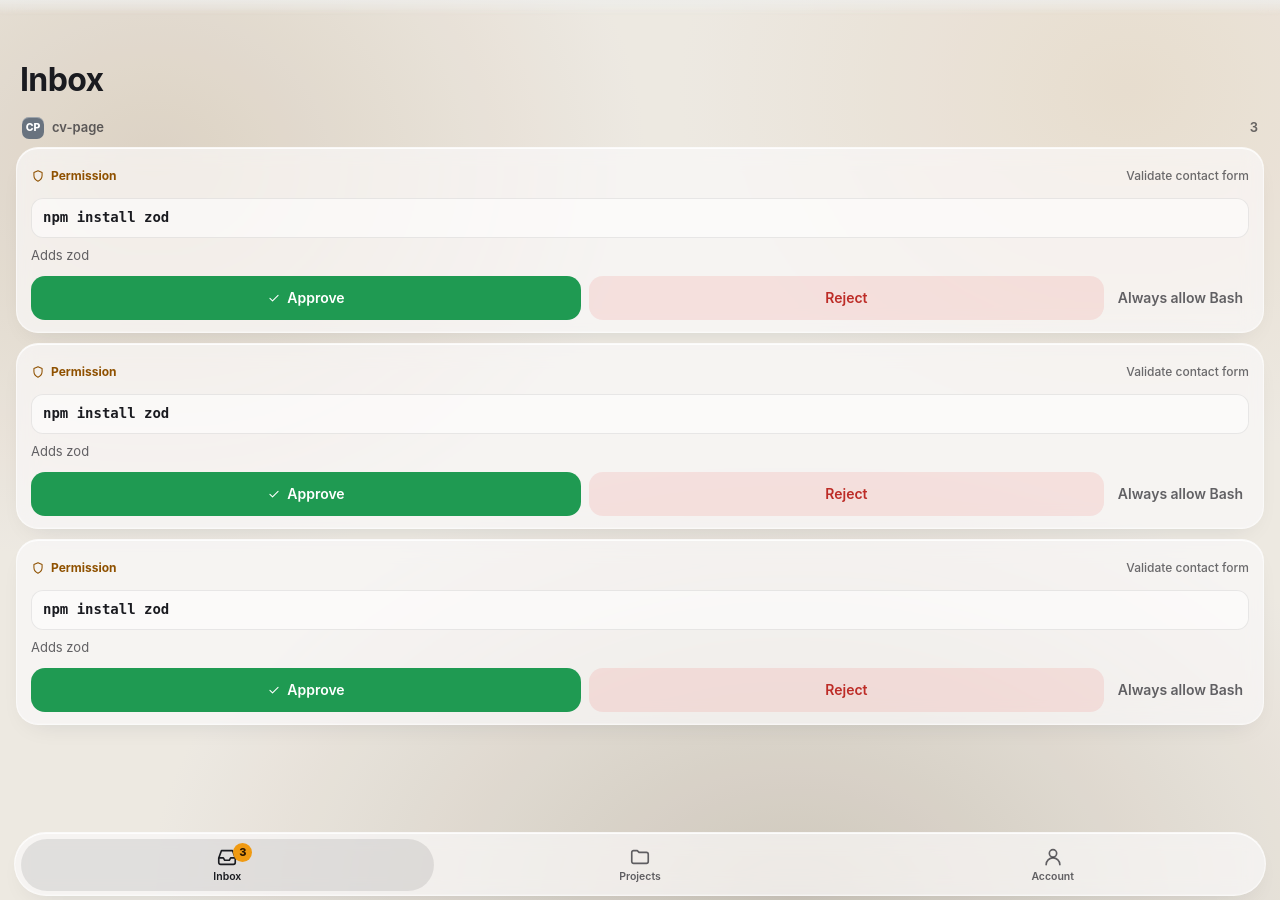
Test: Inbox › approves, rejects and always allows permissions with buttons
Expected: the navigation bar named "Sections" is shown, [14, 832, 1266, 896]
What coordinates should you click on to do the following:
click the 1st button "Approve"
I would click on:
 (306, 298)
Its box is [31, 276, 581, 320].
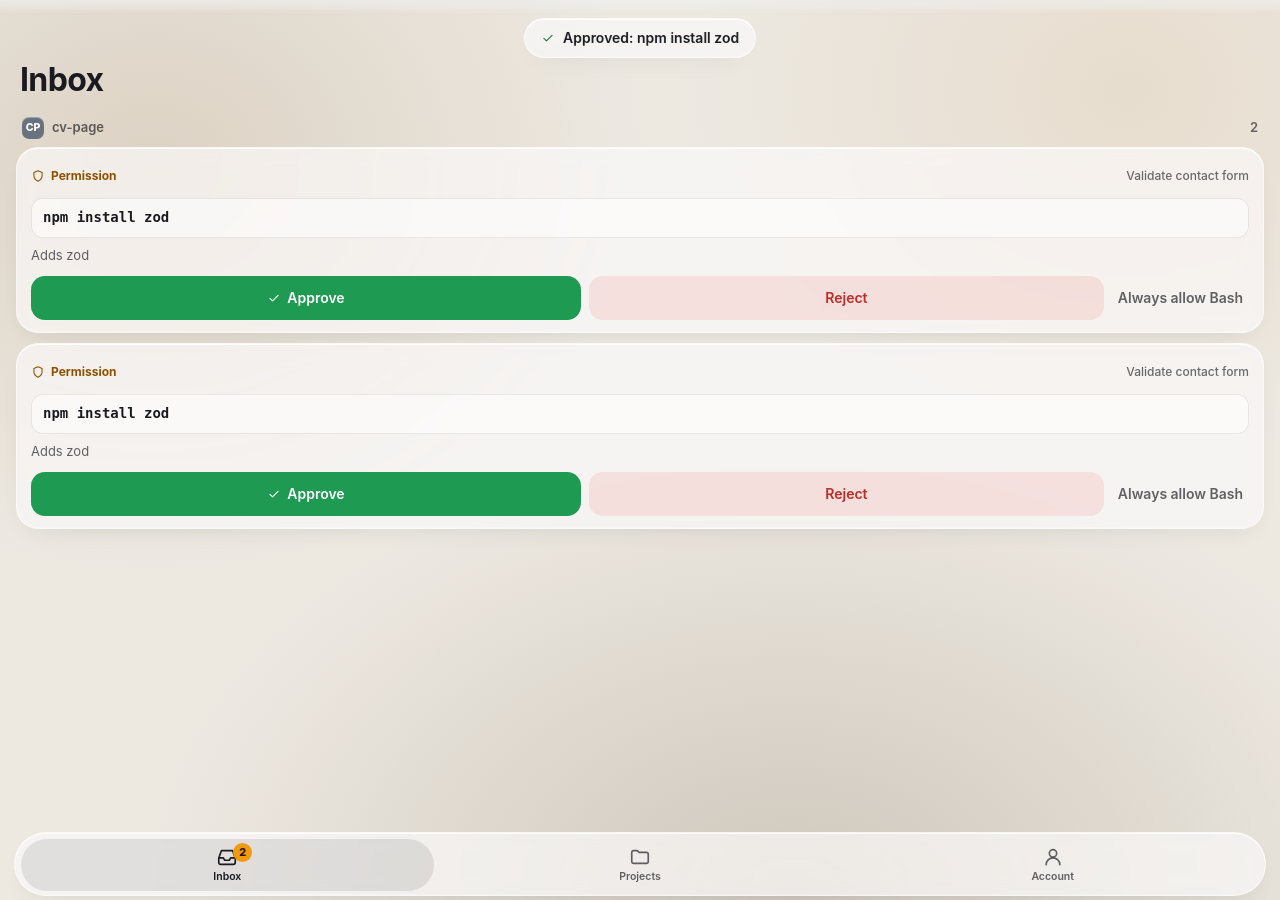
Expected: the text "Approved: npm install zod" is shown, [563, 29, 739, 47]
What coordinates should you click on to do the following:
click the 1st button "Reject"
I would click on:
 (846, 298)
Its box is [589, 276, 1104, 320].
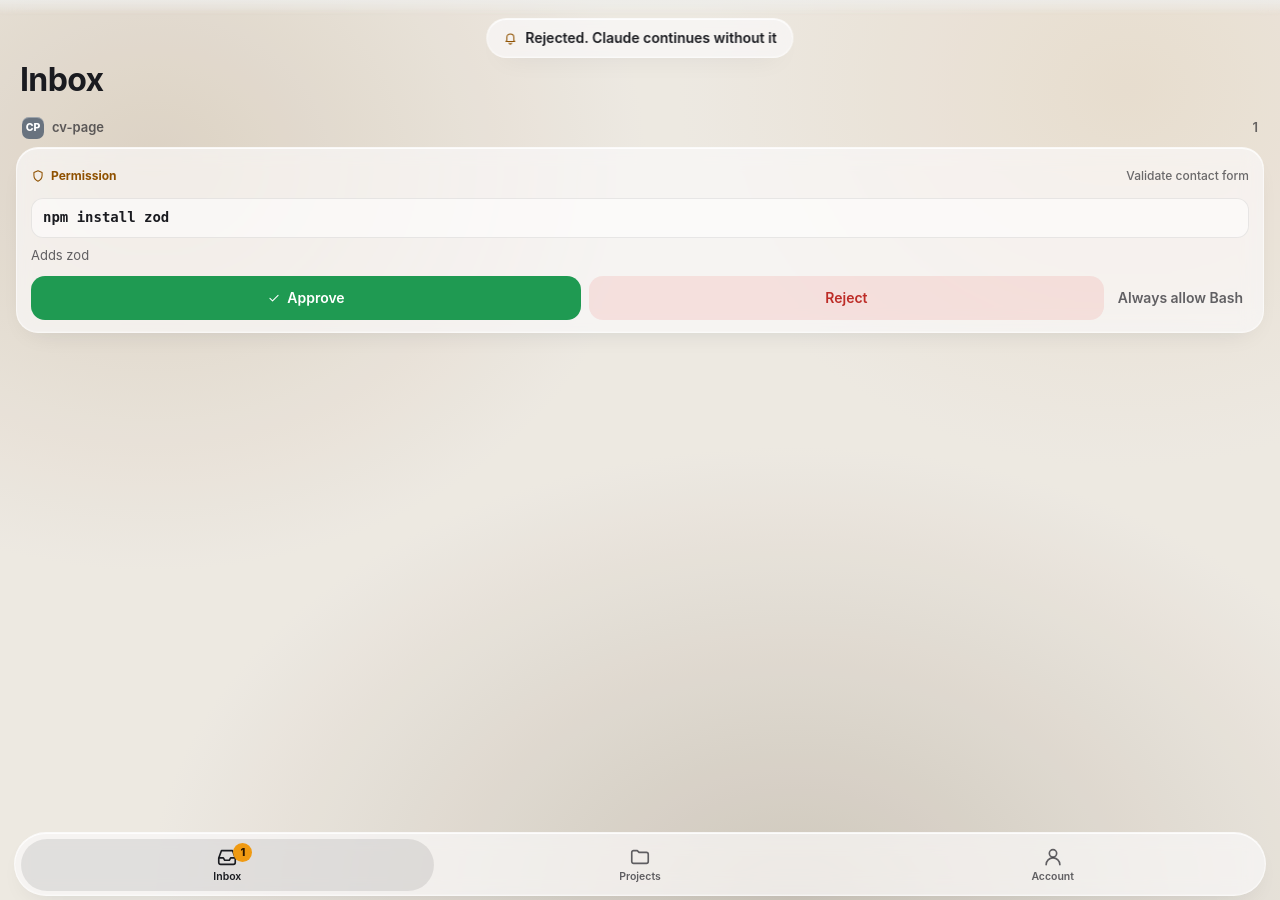
What coordinates should you click on to do the following:
click the button "Always allow Bash"
I would click on:
 (1180, 298)
Its box is [1112, 276, 1249, 320].
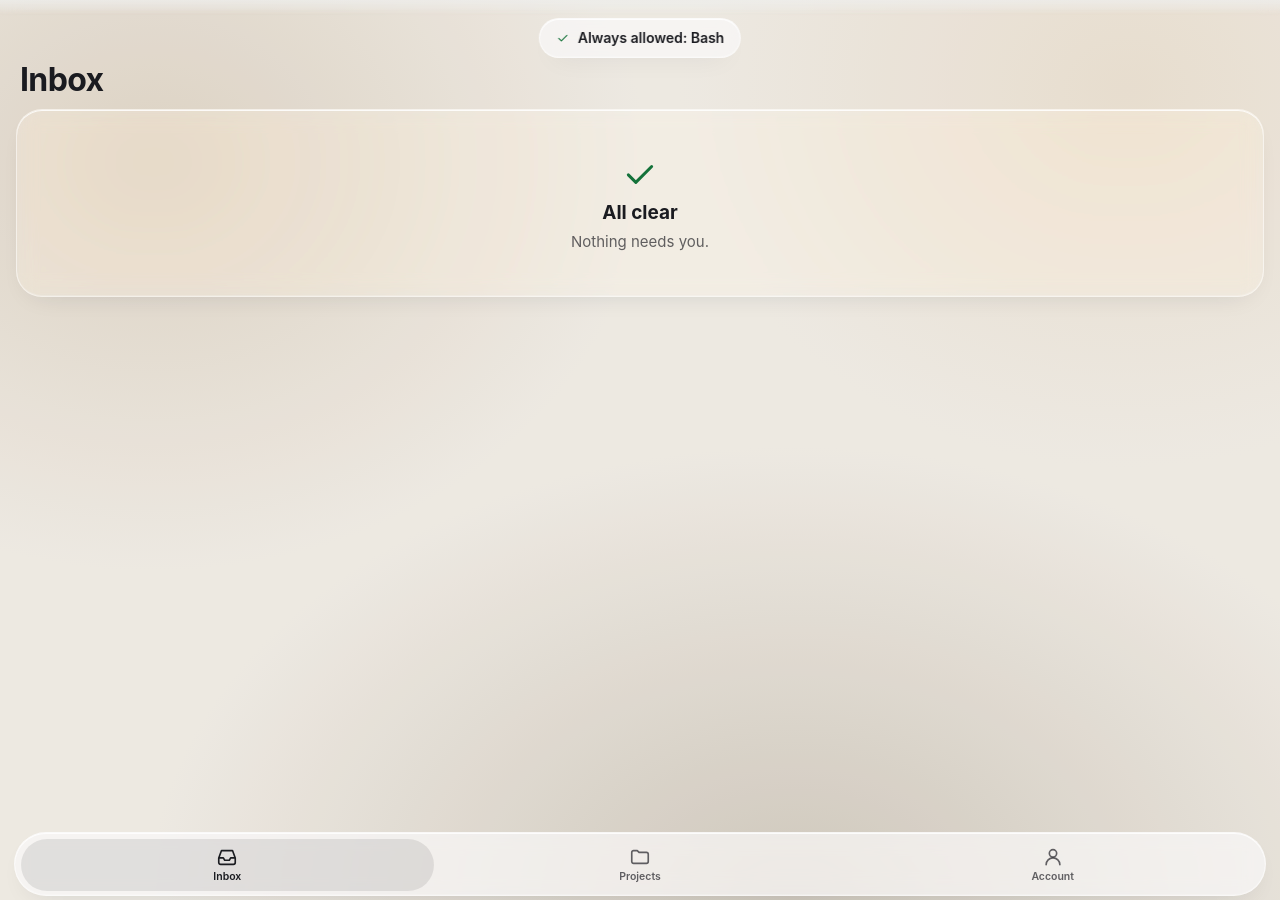
Expected: the text "All clear" is shown, [602, 200, 678, 226]
Expected: the text "Always allowed: Bash" is shown, [578, 29, 724, 47]
